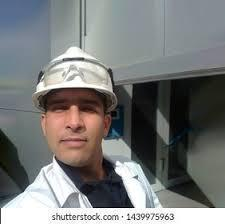helmet: (31, 46, 117, 110)
